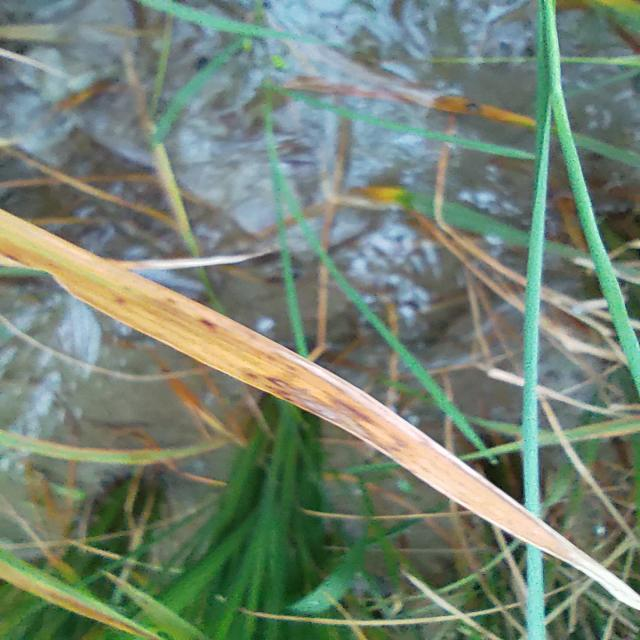Bacterial_Leaf_Blight: (1, 208, 640, 610)
